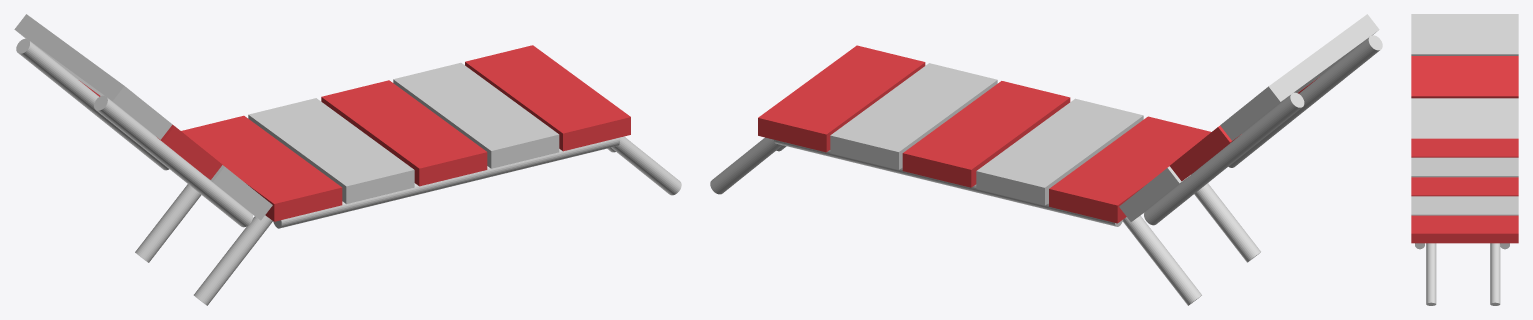
File: beachChair.fbx
3 views of the same model, side by side, from view 1: azimuth 30°, elevation 25°; view 2: azimuth 150°, elevation 25°; view 3: azimuth 270°, elevation 25° (orthographic). The views are drawn at different scales.
Parts seen in each view (by area): view 1: Cube.002, Cube.003, Cube.001, Cube, Cube.004, Cube.007, Cylinder, Cylinder.003, Cylinder.001, Cylinder.004, Cylinder.005, Cube.006 (+2 smaller); view 2: Cube.002, Cube.003, Cube.001, Cube, Cube.004, Cube.007, Cylinder.001, Cylinder, Cylinder.005, Cylinder.004, Cylinder.002, Cube.006 (+2 smaller); view 3: Cube.006, Cube.007, Cube.005, Cube, Cube.003, Cube.004, Cube.002, Cube.001, Cylinder.007, Cylinder.006.
Part boxes in pixels (x1,y1,x2,y2): Cube.002: (321, 80, 487, 186); Cube.003: (248, 98, 414, 204); Cube.001: (393, 62, 559, 168); Cube: (465, 45, 630, 151); Cube.004: (181, 115, 342, 221); Cube.007: (14, 14, 172, 139); Cylinder: (94, 95, 252, 227); Cylinder.003: (273, 137, 619, 228); Cylinder.001: (16, 38, 169, 170); Cylinder.004: (193, 215, 272, 305); Cylinder.005: (135, 184, 201, 262); Cube.006: (79, 80, 222, 179); Cube.002: (902, 81, 1070, 187); Cube.003: (976, 98, 1143, 205); Cube.001: (830, 63, 997, 169); Cube: (758, 45, 925, 152); Cube.004: (1049, 116, 1211, 223); Cube.007: (1220, 14, 1379, 140); Cylinder.001: (1144, 92, 1304, 225); Cylinder: (1228, 35, 1382, 167); Cylinder.005: (1123, 215, 1201, 305); Cylinder.004: (1194, 183, 1260, 262); Cylinder.002: (774, 139, 1122, 226); Cube.006: (1170, 77, 1319, 181); Cube.006: (1411, 56, 1518, 98); Cube.007: (1411, 14, 1518, 55); Cube.005: (1411, 98, 1518, 138); Cube: (1411, 215, 1518, 243); Cube.003: (1411, 157, 1518, 177); Cube.004: (1411, 138, 1518, 157); Cube.002: (1411, 177, 1518, 196); Cube.001: (1411, 196, 1518, 215); Cylinder.007: (1426, 243, 1436, 305); Cylinder.006: (1490, 243, 1500, 305).
Bounding box in the file's own units: 699 × 292 × 200.
